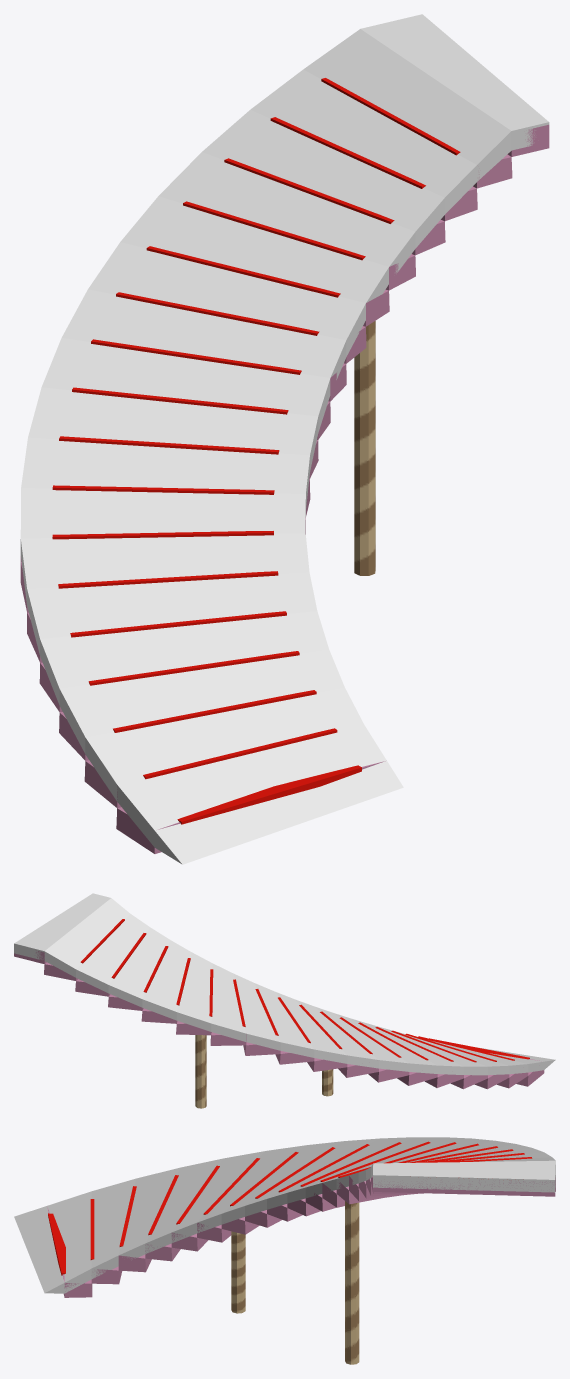
Rendered from SpiralneSchodyZDywanem.fbx.
3 renders of one model, top to bottom at view 1: azimuth 30°, elevation 25°; view 2: azimuth 150°, elevation 25°; view 3: azimuth 270°, elevation 25°, orthographic. The views are drawn at different scales.
Visible parts, largest first — view 1: SpiralneSchodyZDywanem_Collier, Schody z dywanem.001; view 2: SpiralneSchodyZDywanem_Collier, Schody z dywanem.001; view 3: SpiralneSchodyZDywanem_Collier, Schody z dywanem.001.
Part boxes in pixels (left/top/right/bottom): SpiralneSchodyZDywanem_Collier: left=20, top=14, right=549, bottom=864; Schody z dywanem.001: left=20, top=78, right=549, bottom=853; SpiralneSchodyZDywanem_Collier: left=14, top=893, right=555, bottom=1075; Schody z dywanem.001: left=14, top=919, right=544, bottom=1108; SpiralneSchodyZDywanem_Collier: left=14, top=1137, right=555, bottom=1293; Schody z dywanem.001: left=47, top=1141, right=555, bottom=1364.
Size of the model in its own units: 3817 by 2128 by 4189.
5 materials, 1 textured.
